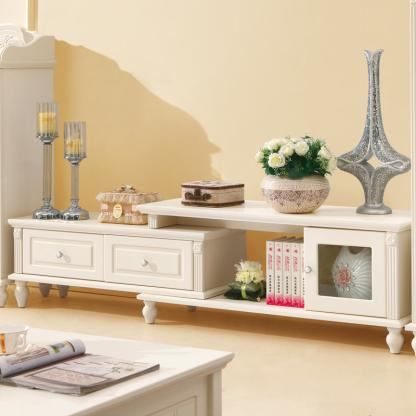TV stand: (6, 199, 410, 356)
